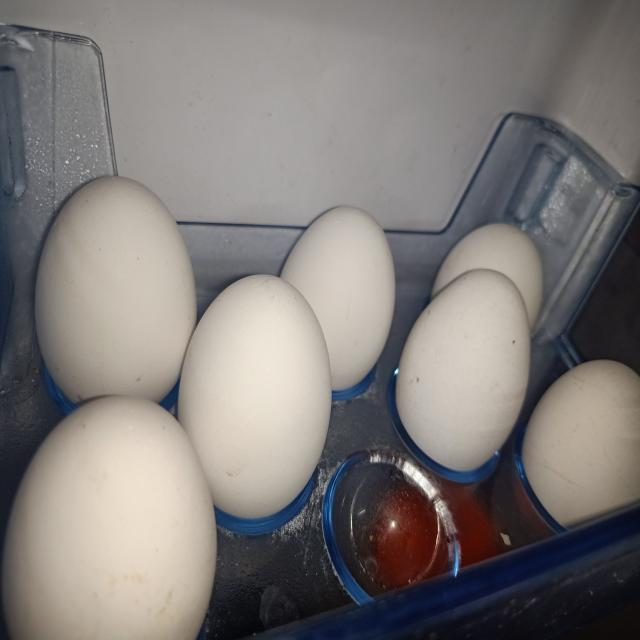Egg: (2, 396, 216, 639), (178, 274, 331, 519), (34, 176, 196, 403), (396, 269, 531, 471), (281, 206, 395, 390), (523, 360, 640, 527), (432, 223, 544, 330)
